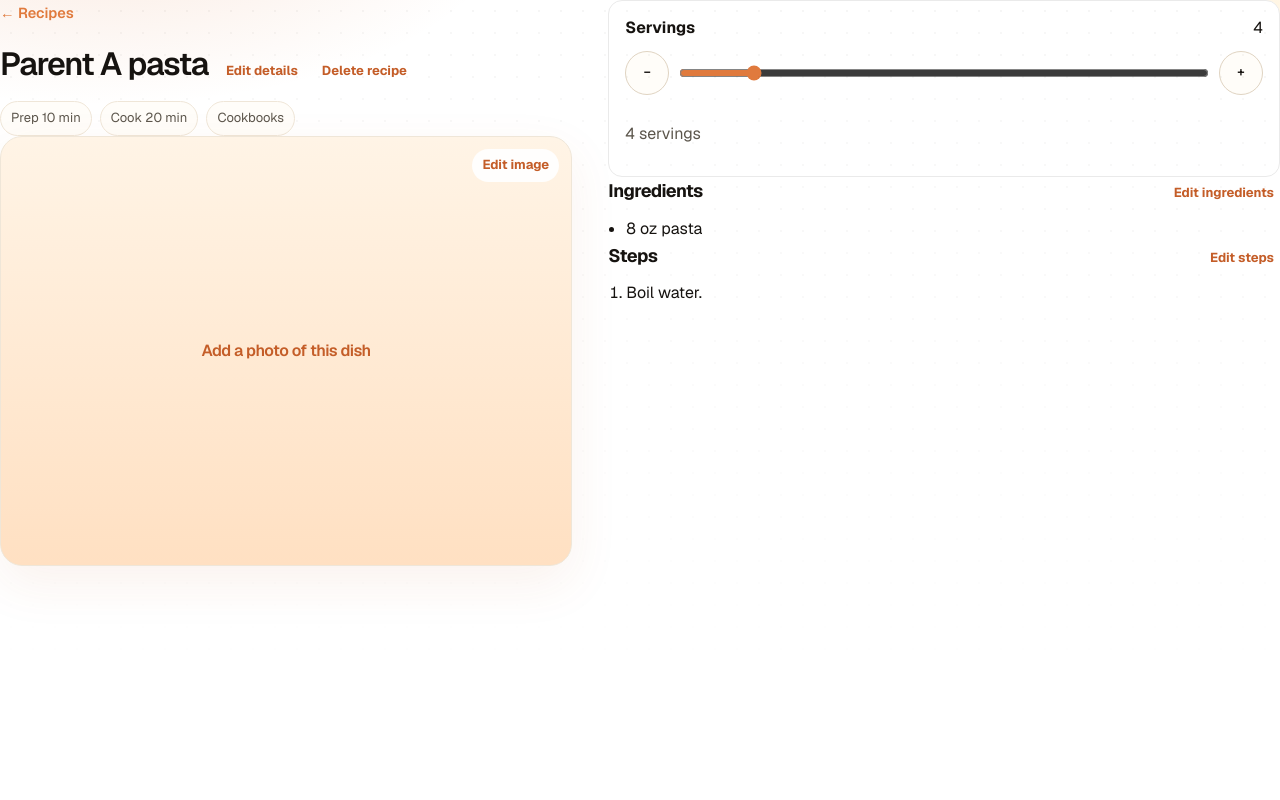
Test case: dirty recipe edit sheets › shows Saved after adding a recipe to a cookbook
What coordinates should you click on to do the following:
click the button "Cookbooks"
I would click on:
 (251, 119)
Its box is [206,101,295,136].
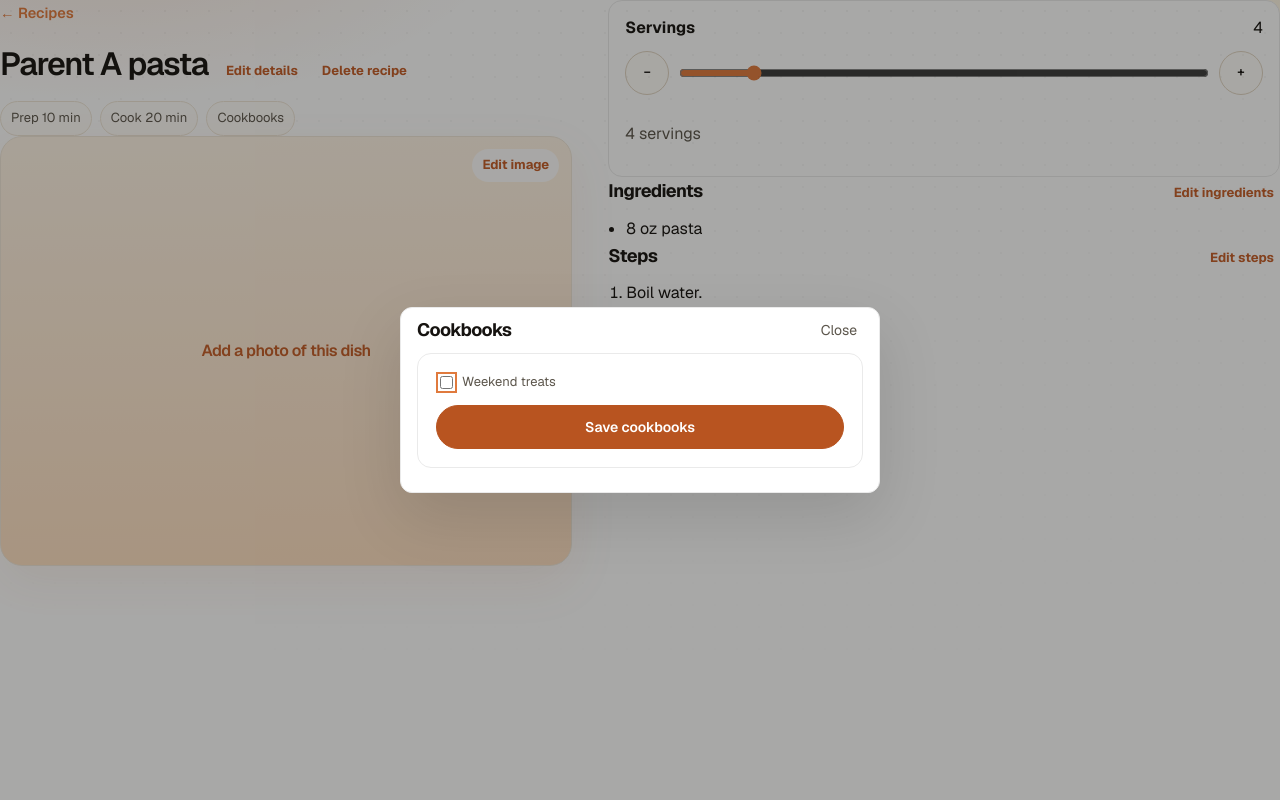
What coordinates should you click on to do the following:
click the checkbox labelled "Weekend treats"
I would click on:
 (446, 382)
Its box is [440,376,453,389].
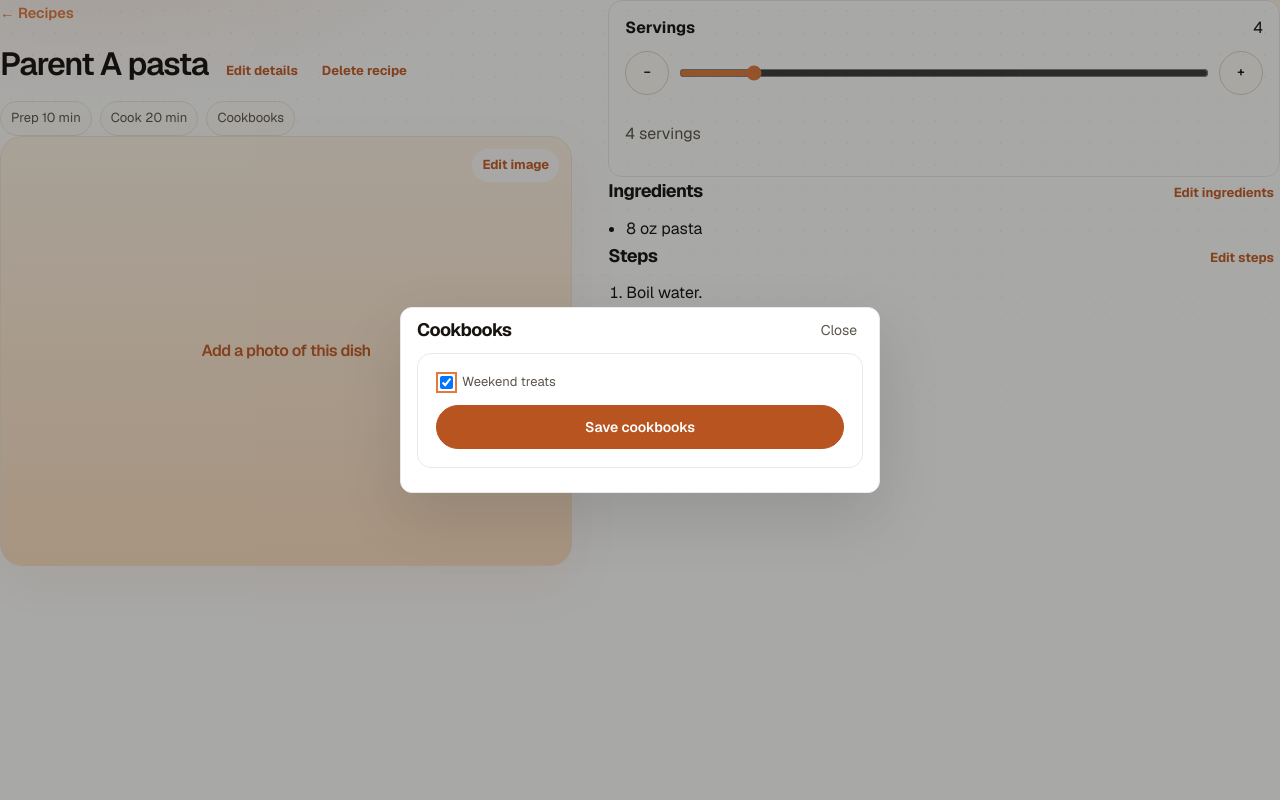
What coordinates should you click on to do the following:
click the button "Save cookbooks"
I would click on:
 (640, 427)
Its box is [436,405,844,449].
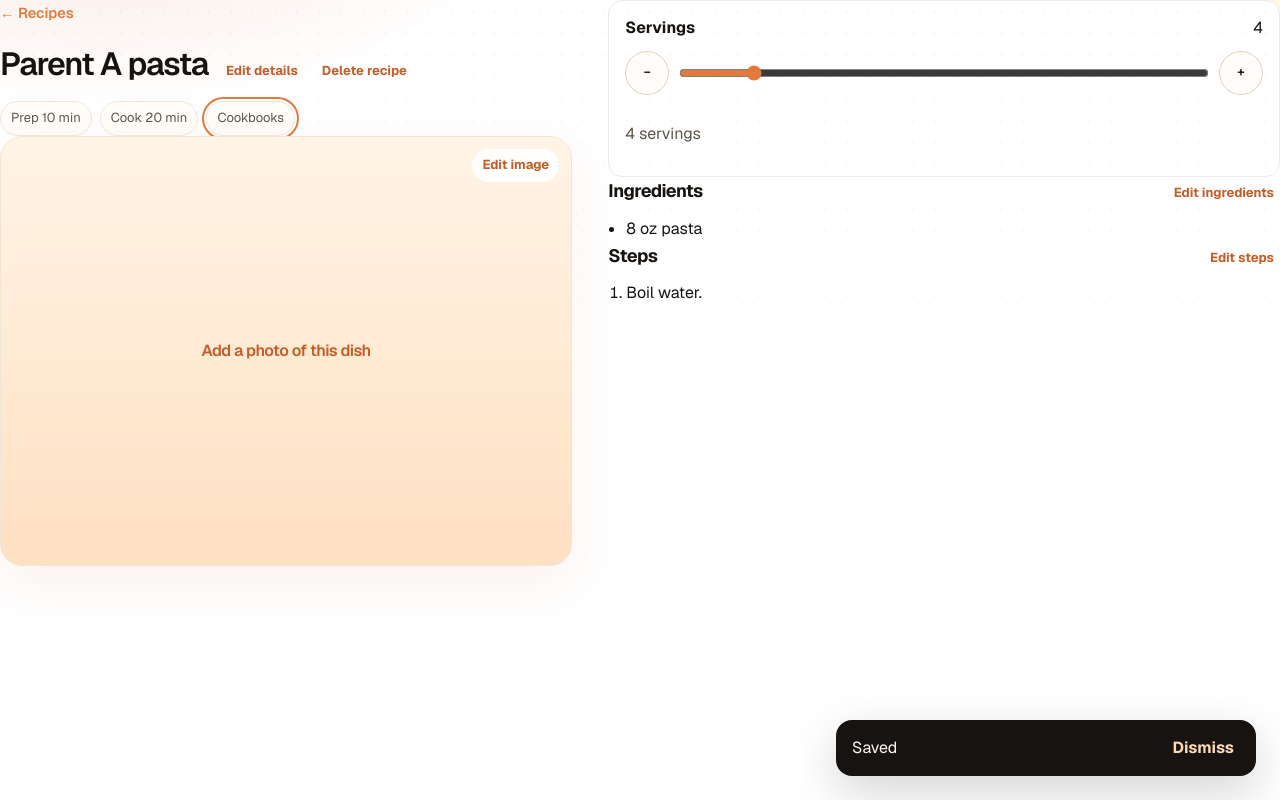
Now the message shows "Saved", box [852,737,897,758]
